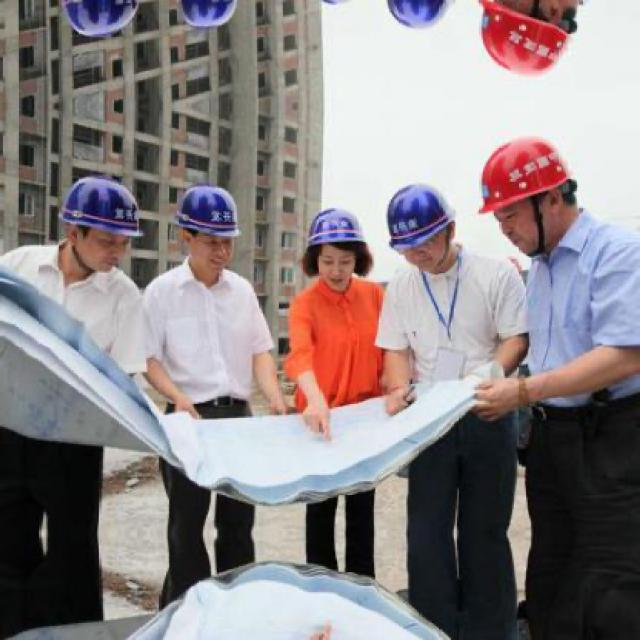helmet: (482, 130, 580, 246), (480, 0, 580, 85), (57, 173, 141, 270), (172, 179, 246, 274), (388, 179, 463, 271), (302, 206, 364, 286), (57, 0, 143, 42), (388, 0, 465, 35), (171, 0, 247, 35)
